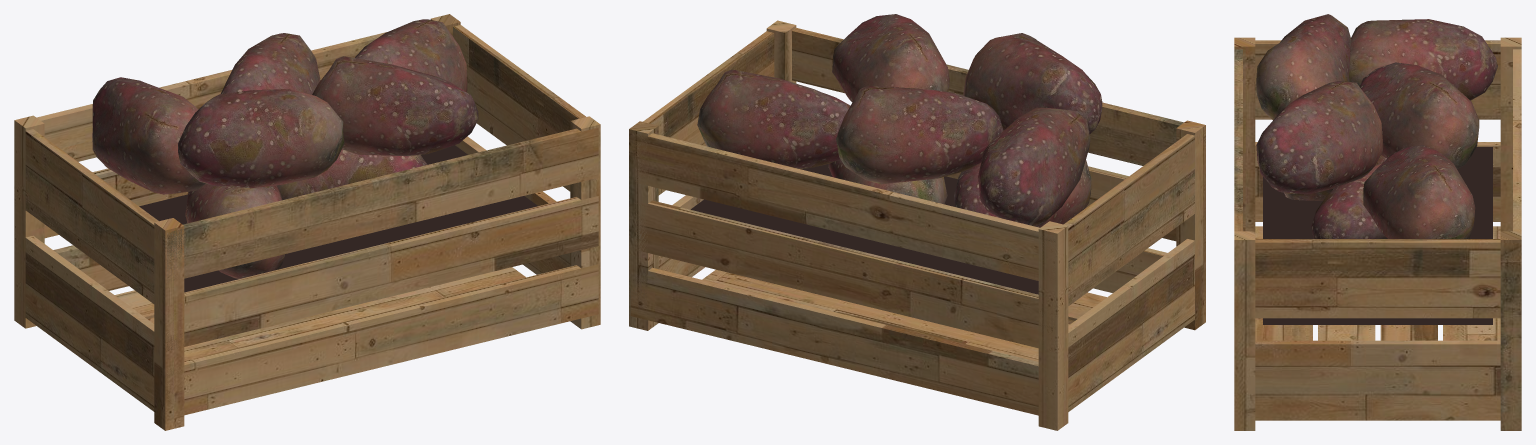
Rendered from skrzynka_bataty.glb.
3 renders of one model, left to right at view 1: azimuth 30°, elevation 25°; view 2: azimuth 150°, elevation 25°; view 3: azimuth 270°, elevation 25°, orthographic. The views are drawn at different scales.
Parts seen in each view (by area): view 1: skrzynka, bataty, dno; view 2: skrzynka, bataty, dno; view 3: skrzynka, bataty, dno.
Part boxes in pixels (box(x1,y1,x2,y2)): skrzynka: box(14, 14, 600, 430); bataty: box(92, 19, 478, 278); dno: box(139, 145, 537, 292); skrzynka: box(629, 20, 1205, 430); bataty: box(697, 14, 1102, 227); dno: box(690, 164, 1038, 294); skrzynka: box(1234, 37, 1521, 430); bataty: box(1256, 14, 1497, 238); dno: box(1263, 147, 1492, 324).
Bounding box in the file's own units: 0.5 × 0.3044 × 0.3.
3 materials, 3 textured.
